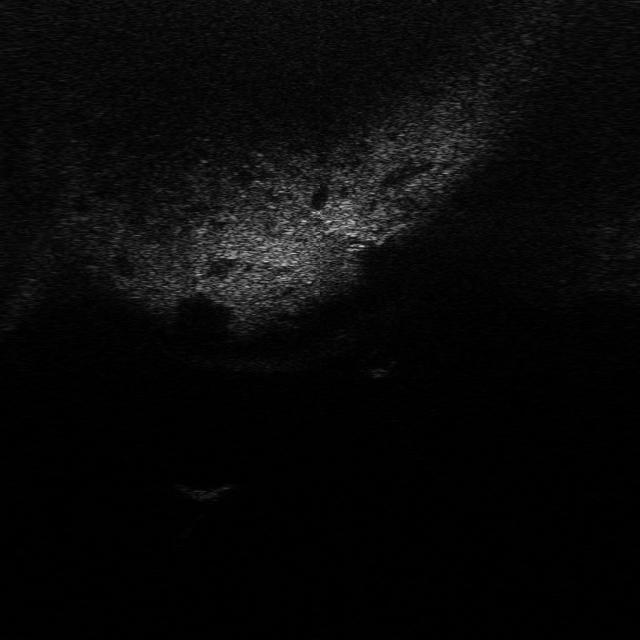ball: (357, 346, 397, 376)
cube: (173, 474, 237, 504)
